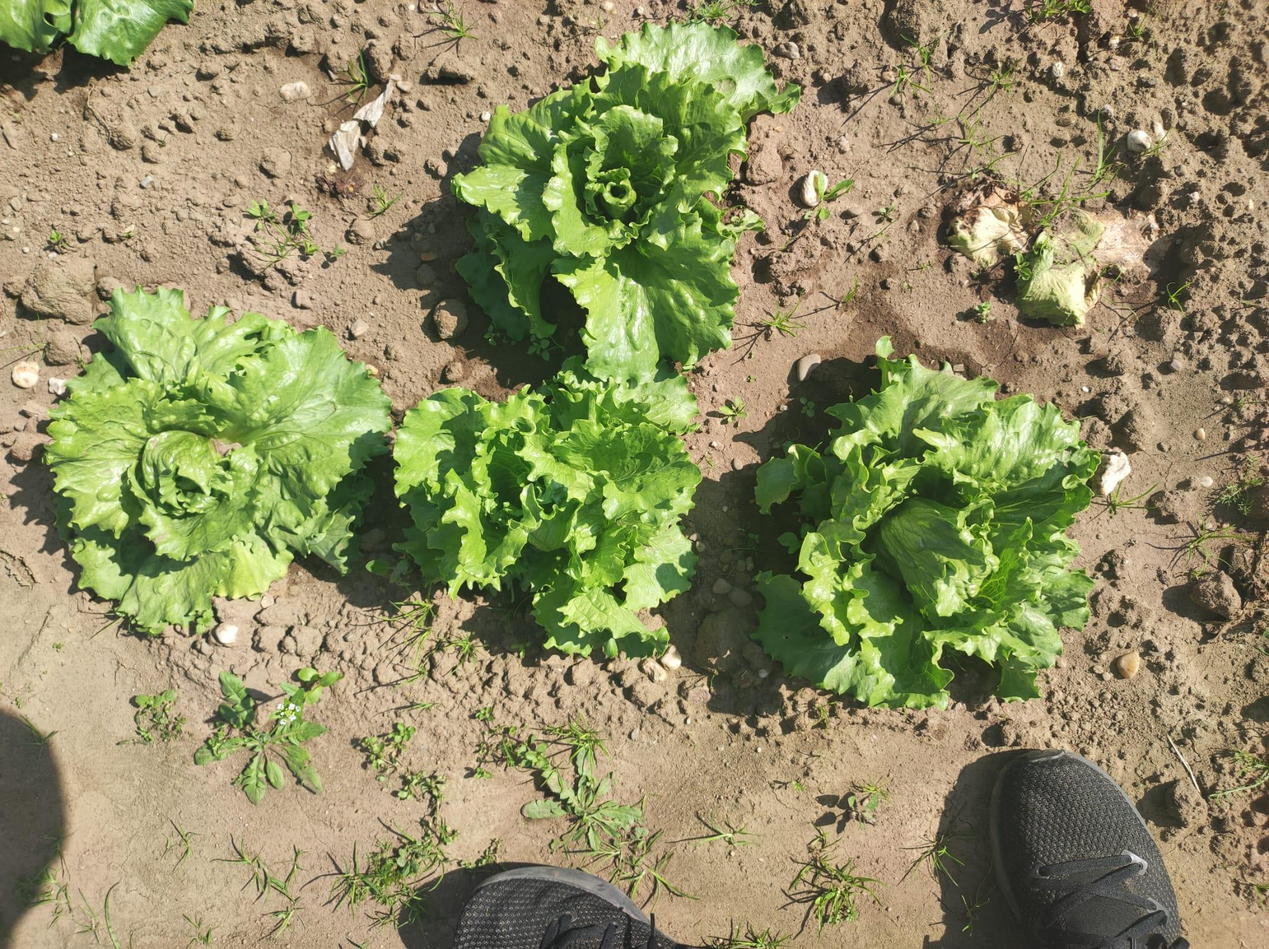healthy: (757, 338, 1101, 708), (452, 21, 799, 380), (45, 287, 390, 633), (393, 361, 702, 656), (0, 0, 191, 64)
